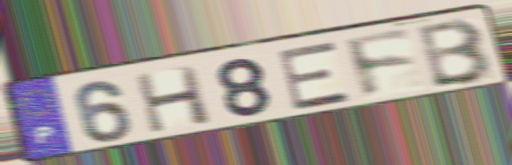6: (71, 79, 134, 144)
8: (214, 56, 275, 119)
B: (416, 16, 496, 90)
E: (274, 39, 355, 113)
F: (340, 27, 419, 102)
H: (131, 62, 216, 136)
